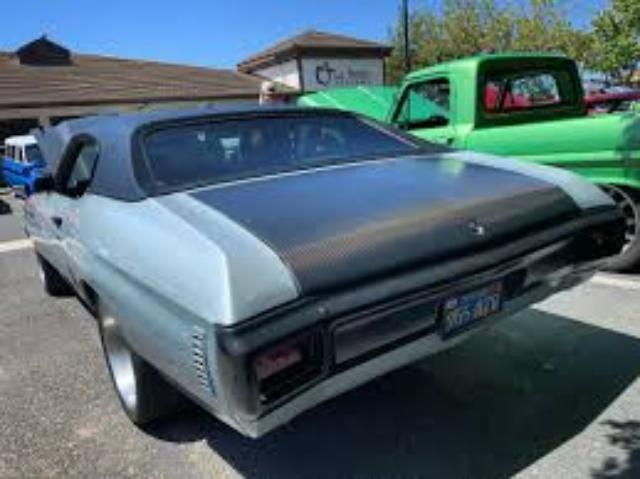chevelle-1972: (22, 106, 620, 435)
